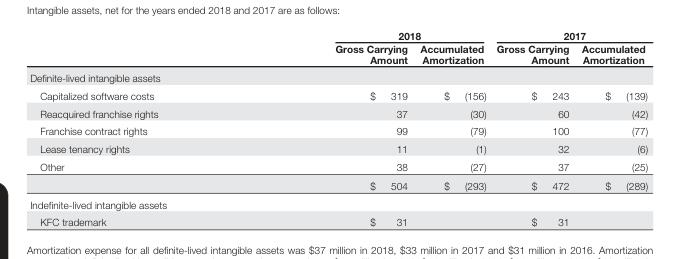table: (29, 28, 647, 227)
table column: (29, 28, 246, 227), (246, 28, 413, 227), (490, 28, 574, 227), (413, 28, 490, 227), (574, 28, 647, 227)
table column header: (29, 28, 647, 68)
table projected row header: (29, 68, 647, 86), (29, 194, 647, 212)
table row: (29, 41, 647, 68), (29, 175, 647, 194), (29, 68, 647, 86), (29, 86, 647, 104), (29, 121, 647, 139), (29, 139, 647, 157), (29, 157, 647, 175), (29, 194, 647, 212), (29, 104, 647, 121), (29, 212, 647, 227), (29, 28, 647, 41)
table spanning cell: (246, 28, 490, 41), (490, 28, 647, 41)
